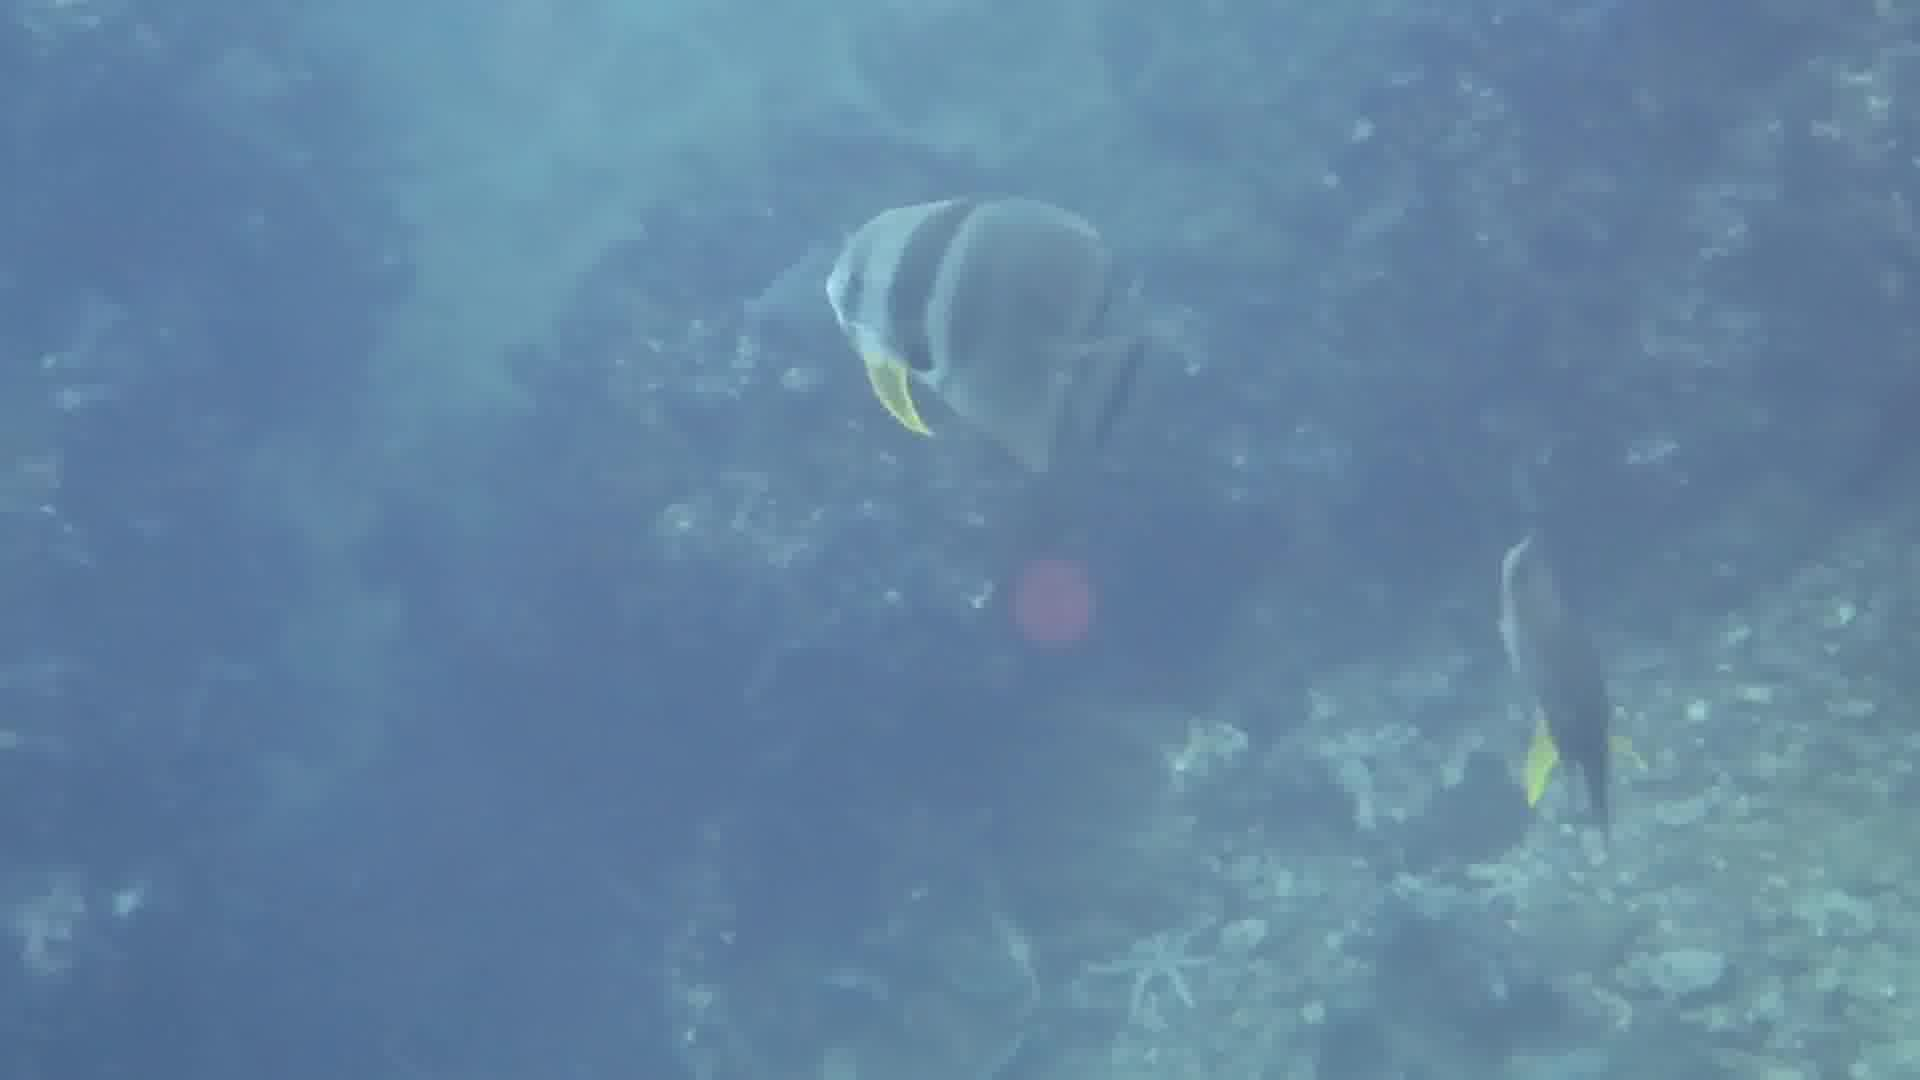Platax teira: (779, 166, 1125, 538)
